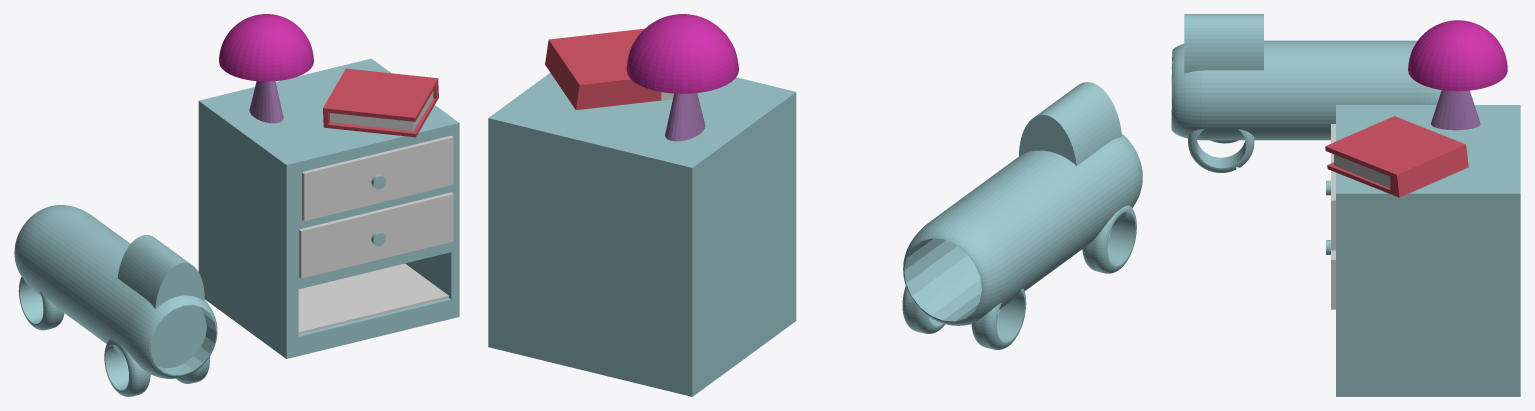
The model's file is GLASS SOMETHING.glb.
3 renders of one model, left to right at view 1: azimuth 30°, elevation 25°; view 2: azimuth 150°, elevation 25°; view 3: azimuth 270°, elevation 25°, orthographic. The views are drawn at different scales.
Parts seen in each view (by area): view 1: Mesh_Mesh_head_geo.001_lambert2SG.001; view 2: Mesh_Mesh_head_geo.001_lambert2SG.001; view 3: Mesh_Mesh_head_geo.001_lambert2SG.001.
Part boxes in pixels (x1,y1,x2,y2): Mesh_Mesh_head_geo.001_lambert2SG.001: (14, 14, 459, 396); Mesh_Mesh_head_geo.001_lambert2SG.001: (488, 14, 1142, 396); Mesh_Mesh_head_geo.001_lambert2SG.001: (1171, 14, 1520, 396).
Size of the model in its own units: 98.36 by 67 by 69.99.
